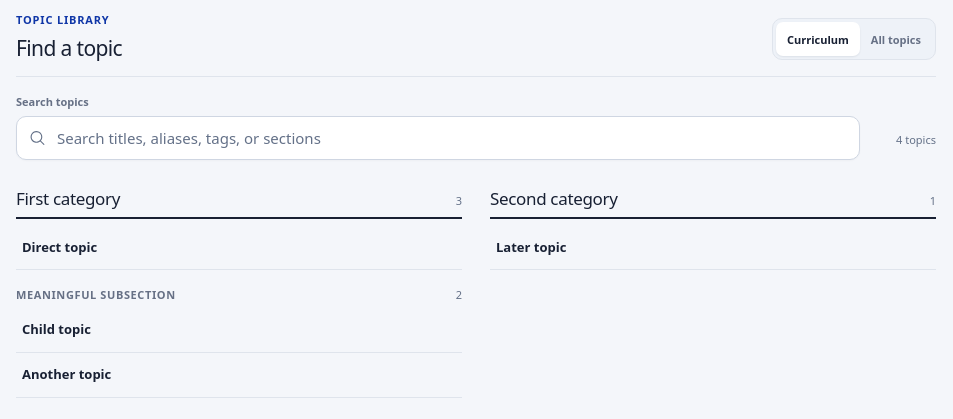
TopicsBrowser › shows a clear no-match state and clears the query
This screenshot has width=953, height=419.
Type "not-a-topic" into the search field labelled "Search topics" at (438, 138), box [16, 116, 860, 160]
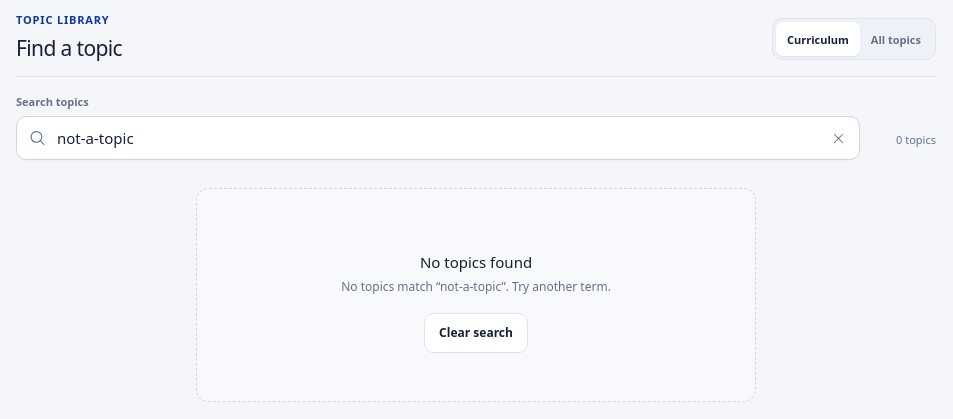
Expected: the heading "No topics found" is shown, [420, 251, 532, 274]
Click the button "Clear search" at (476, 333), box [424, 313, 528, 353]
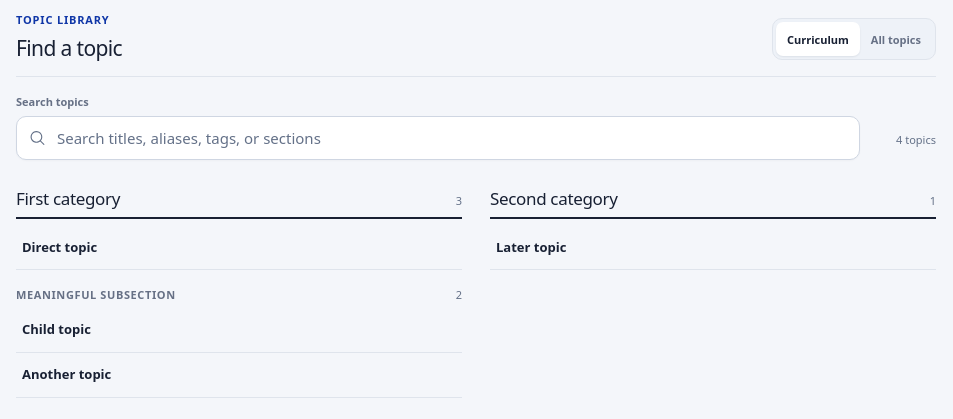
Expected: the link "Direct topic" is shown, [22, 238, 97, 256]
Expected: the search field labelled "Search topics" is empty, [16, 116, 860, 160]
